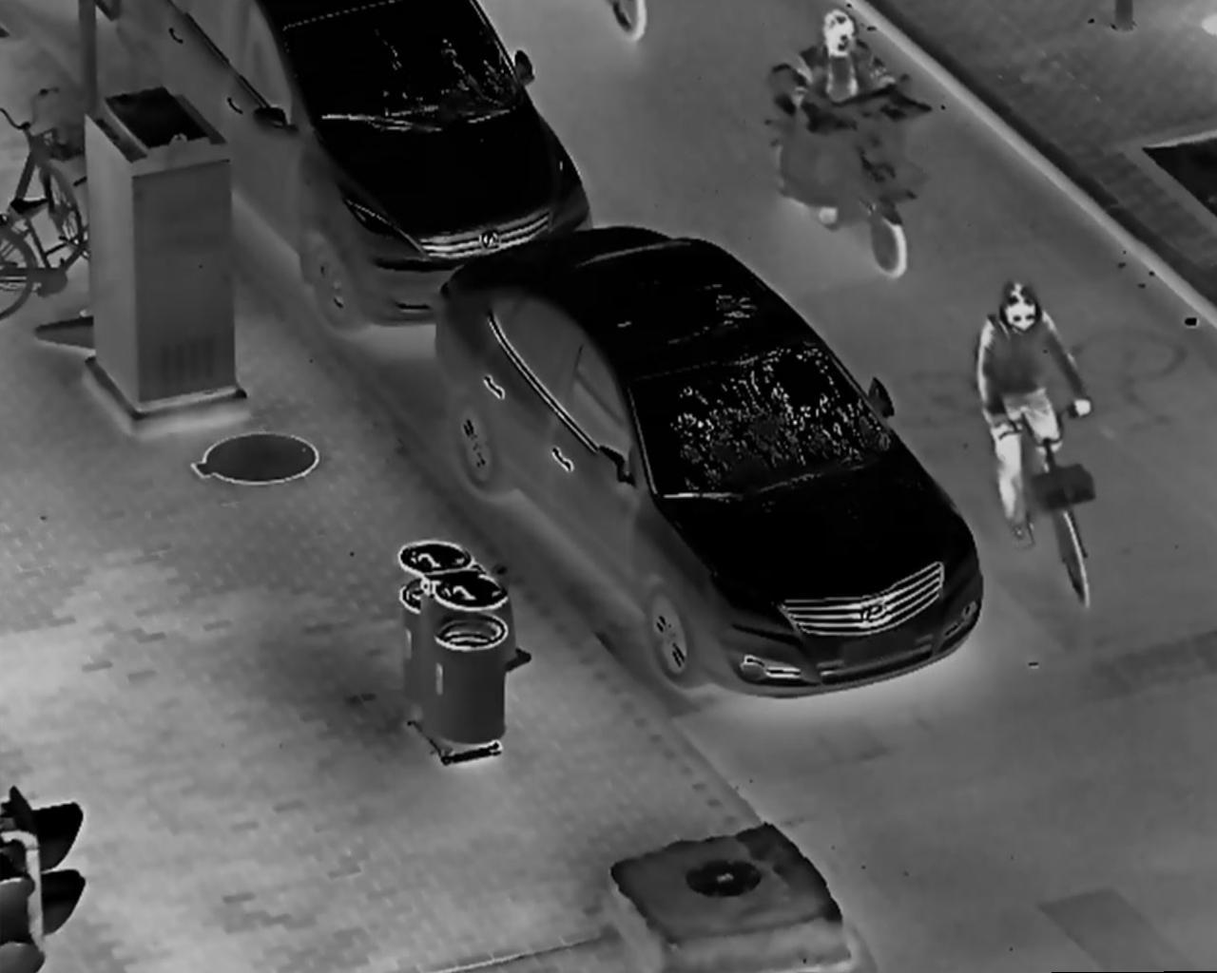person: (965, 275, 1096, 546), (790, 9, 902, 232)
